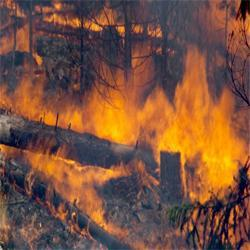fire: (199, 112, 241, 188), (31, 160, 85, 190), (97, 99, 131, 139), (156, 118, 195, 152)
